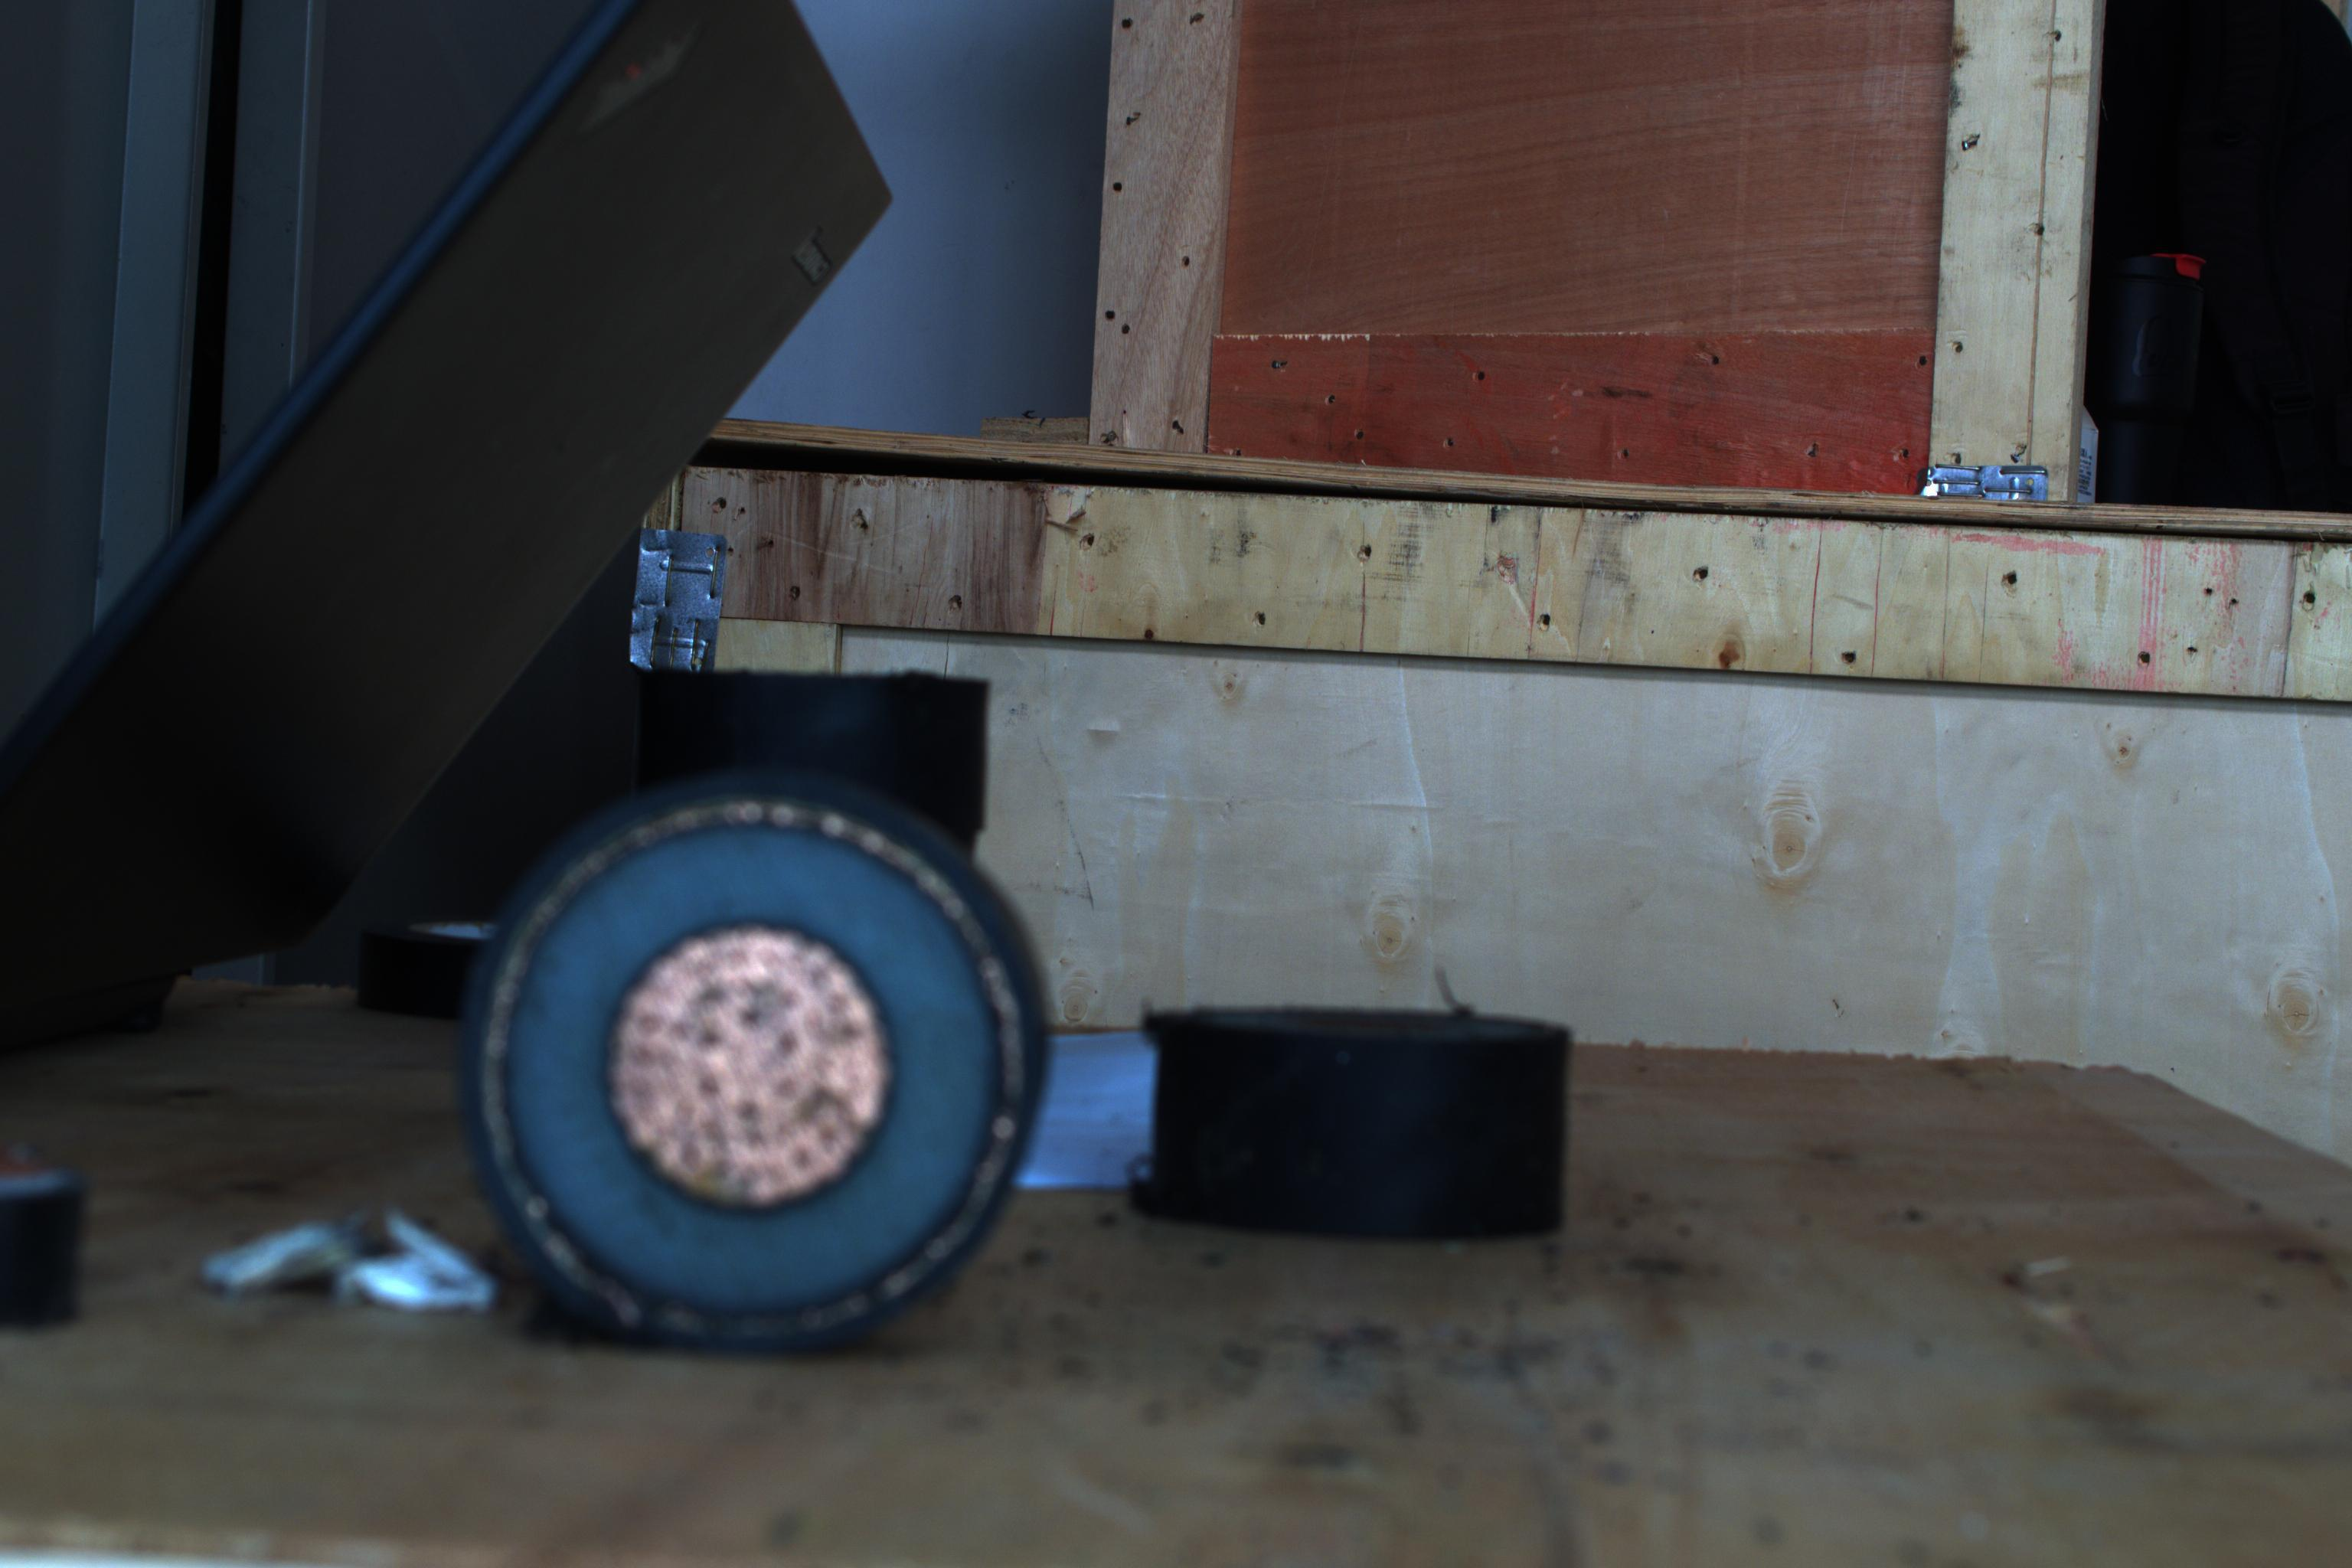YJV_26_35kV_1x630: (467, 780, 1062, 1368)
